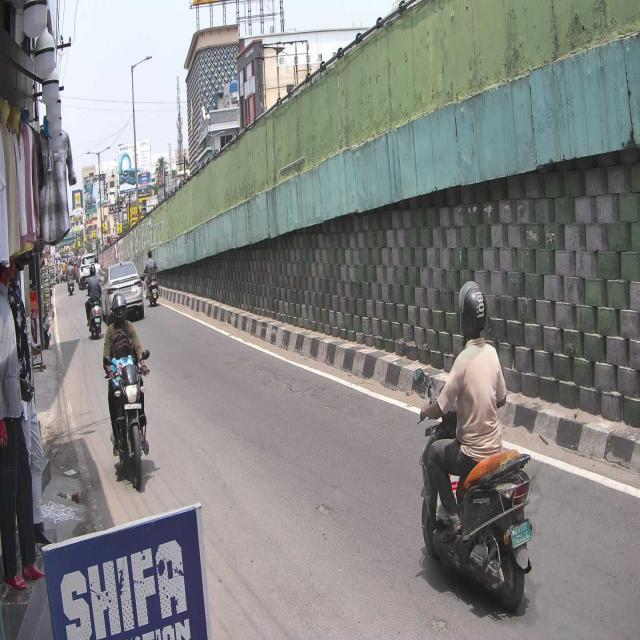single_rider: (415, 279, 533, 611), (100, 293, 154, 496)
